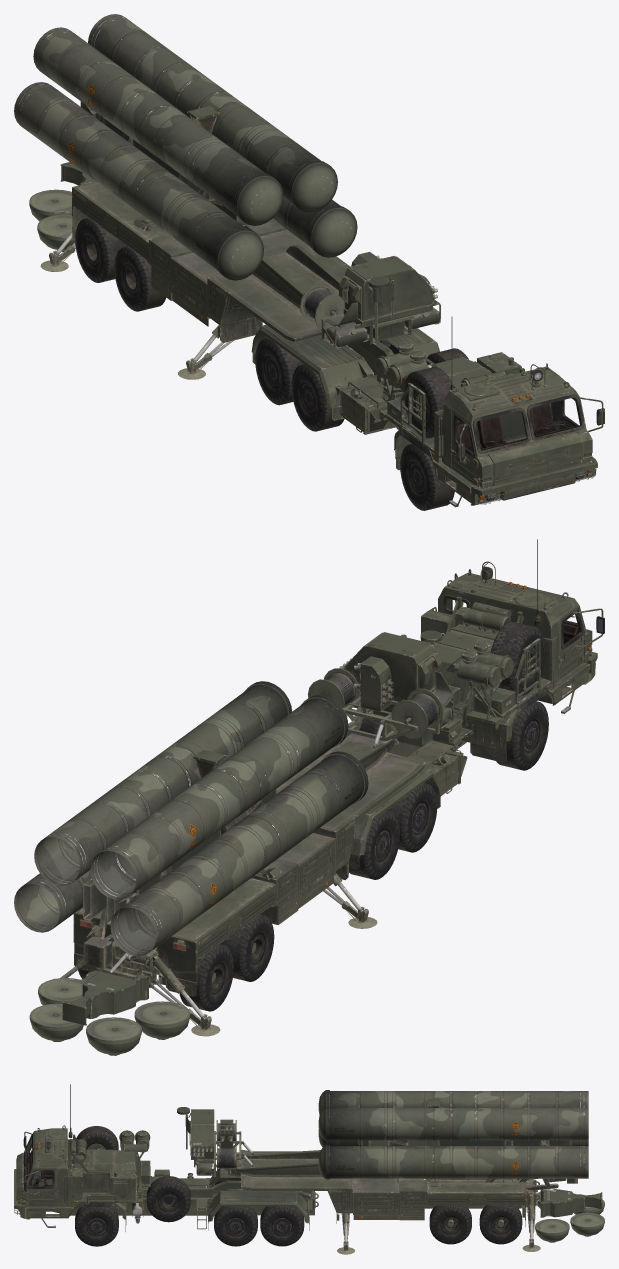
The model's file is s400_launcher.glb.
3 renders of one model, top to bottom at view 1: azimuth 30°, elevation 25°; view 2: azimuth 150°, elevation 25°; view 3: azimuth 270°, elevation 25°, orthographic. The views are drawn at different scales.
Visible parts, largest first — view 1: Body, Canisters, Outriggers; view 2: Body, Canisters, Outriggers; view 3: Body, Canisters, Outriggers.
Boxes of the visible parts, left/top/right/bottom form: Body: left=29, top=105, right=604, bottom=510; Canisters: left=14, top=14, right=357, bottom=280; Outriggers: left=30, top=208, right=233, bottom=379; Body: left=29, top=539, right=604, bottom=1044; Canisters: left=14, top=681, right=368, bottom=956; Outriggers: left=31, top=882, right=377, bottom=1055; Body: left=14, top=1084, right=604, bottom=1246; Canisters: left=318, top=1090, right=588, bottom=1186; Outriggers: left=337, top=1191, right=604, bottom=1254.
Size of the model in its own units: 4.2 by 4.43 by 18.1.
Materials: 2 (2 with a texture image).
